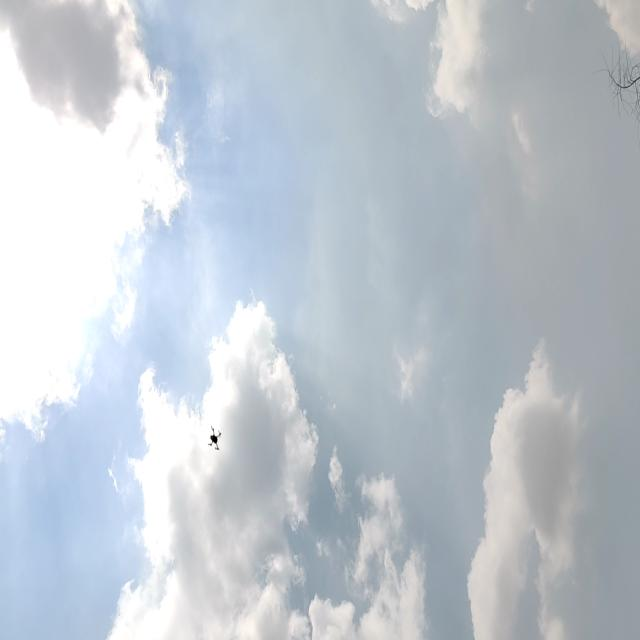drone: (201, 426, 227, 452)
